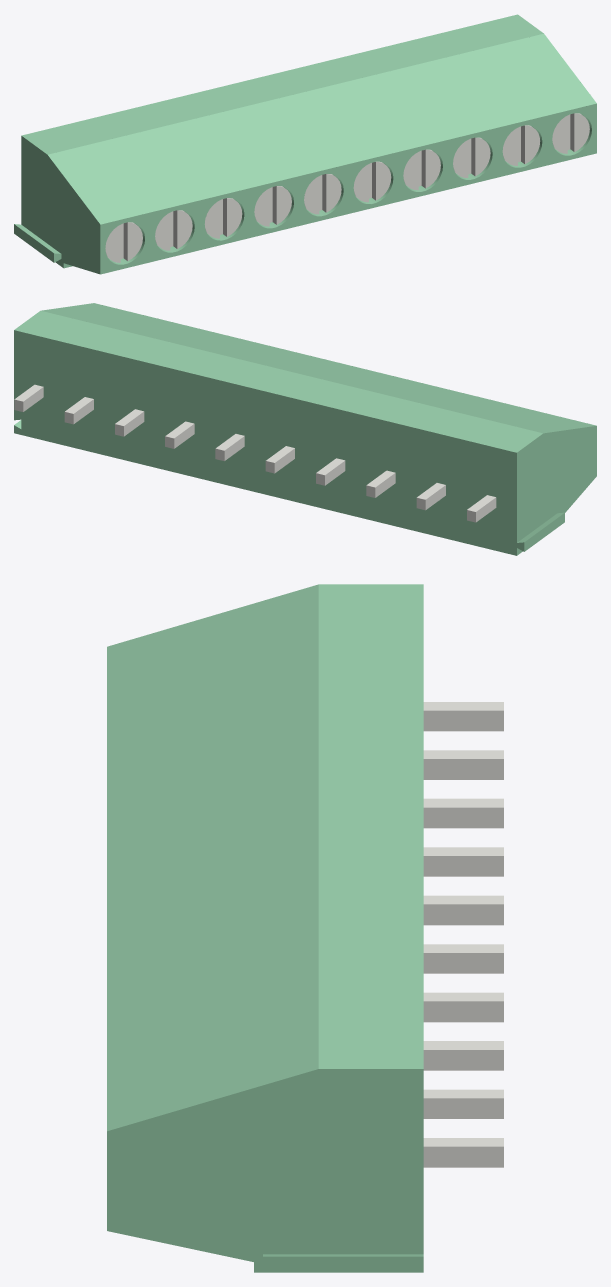
Rendered from TerminalBlock_Phoenix_MKDS-1,5-10_1x10_P5.00mm_Horizontal.glb.
3 renders of one model, top to bottom at view 1: azimuth 30°, elevation 25°; view 2: azimuth 150°, elevation 25°; view 3: azimuth 270°, elevation 25°, orthographic. The views are drawn at different scales.
Parts seen in each view (by area): view 1: Shape_IndexedFaceSet.003, Shape_IndexedFaceSet.004, Shape_IndexedFaceSet.002, Shape_IndexedFaceSet, Shape_IndexedFaceSet.327, Shape_IndexedFaceSet.307, Shape_IndexedFaceSet.357, Shape_IndexedFaceSet.267, Shape_IndexedFaceSet.291, Shape_IndexedFaceSet.321, Shape_IndexedFaceSet.337, Shape_IndexedFaceSet.341 (+13 smaller); view 2: Shape_IndexedFaceSet.005, Shape_IndexedFaceSet.004, Shape_IndexedFaceSet.003, Shape_IndexedFaceSet, Shape_IndexedFaceSet.022; view 3: Shape_IndexedFaceSet.003, Shape_IndexedFaceSet.011, Shape_IndexedFaceSet.004, Shape_IndexedFaceSet.033, Shape_IndexedFaceSet.041, Shape_IndexedFaceSet.065, Shape_IndexedFaceSet.049, Shape_IndexedFaceSet.057, Shape_IndexedFaceSet.029, Shape_IndexedFaceSet.037, Shape_IndexedFaceSet.045, Shape_IndexedFaceSet.053 (+2 smaller).
Part boxes in pixels (x1,y1,x2,y2): Shape_IndexedFaceSet.003: (48, 33, 596, 224); Shape_IndexedFaceSet.004: (21, 14, 543, 154); Shape_IndexedFaceSet.002: (100, 103, 596, 274); Shape_IndexedFaceSet: (21, 136, 100, 274); Shape_IndexedFaceSet.327: (127, 222, 142, 260); Shape_IndexedFaceSet.307: (276, 186, 291, 224); Shape_IndexedFaceSet.357: (574, 113, 589, 151); Shape_IndexedFaceSet.267: (425, 150, 440, 187); Shape_IndexedFaceSet.291: (304, 176, 319, 214); Shape_IndexedFaceSet.321: (453, 140, 468, 177); Shape_IndexedFaceSet.337: (177, 210, 192, 248); Shape_IndexedFaceSet.341: (155, 213, 170, 250); Shape_IndexedFaceSet.005: (14, 330, 524, 555); Shape_IndexedFaceSet.004: (14, 310, 542, 452); Shape_IndexedFaceSet.003: (41, 303, 595, 433); Shape_IndexedFaceSet: (517, 425, 596, 555); Shape_IndexedFaceSet.022: (524, 513, 564, 551); Shape_IndexedFaceSet.003: (107, 584, 318, 1131); Shape_IndexedFaceSet.011: (107, 1069, 423, 1272); Shape_IndexedFaceSet.004: (318, 584, 423, 1068); Shape_IndexedFaceSet.033: (423, 1001, 503, 1022); Shape_IndexedFaceSet.041: (423, 904, 503, 925); Shape_IndexedFaceSet.065: (423, 1146, 503, 1167); Shape_IndexedFaceSet.049: (423, 710, 503, 731); Shape_IndexedFaceSet.057: (423, 807, 503, 828); Shape_IndexedFaceSet.029: (423, 1050, 503, 1070); Shape_IndexedFaceSet.037: (423, 856, 503, 876); Shape_IndexedFaceSet.045: (423, 953, 503, 973); Shape_IndexedFaceSet.053: (423, 759, 503, 779).
Bounding box in the file's own units: 19.98 × 3.86 × 6.81.
